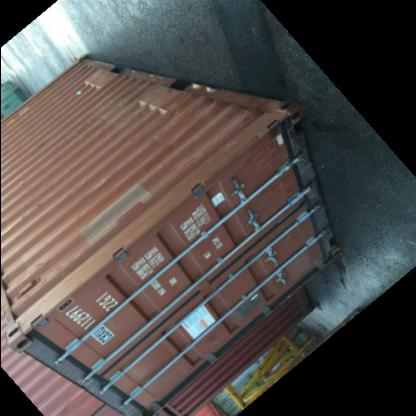Damage: (244, 108, 298, 172), (129, 98, 167, 126), (74, 78, 100, 100)
